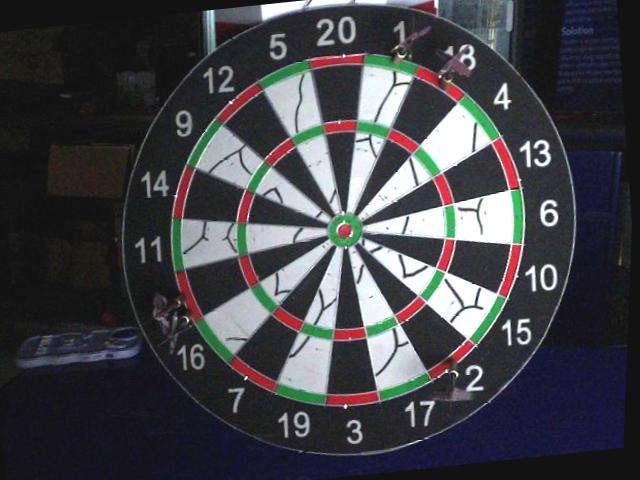double_1: (366, 56, 419, 75)
double_18: (415, 68, 465, 102), (416, 71, 465, 102)
double_2: (431, 335, 480, 377)
double_8: (177, 269, 203, 320)
